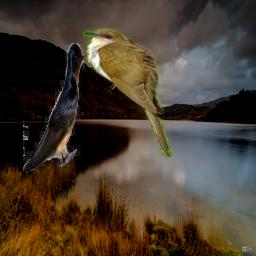Cuckoo: (83, 28, 173, 158)
Swallow: (23, 43, 85, 173)
